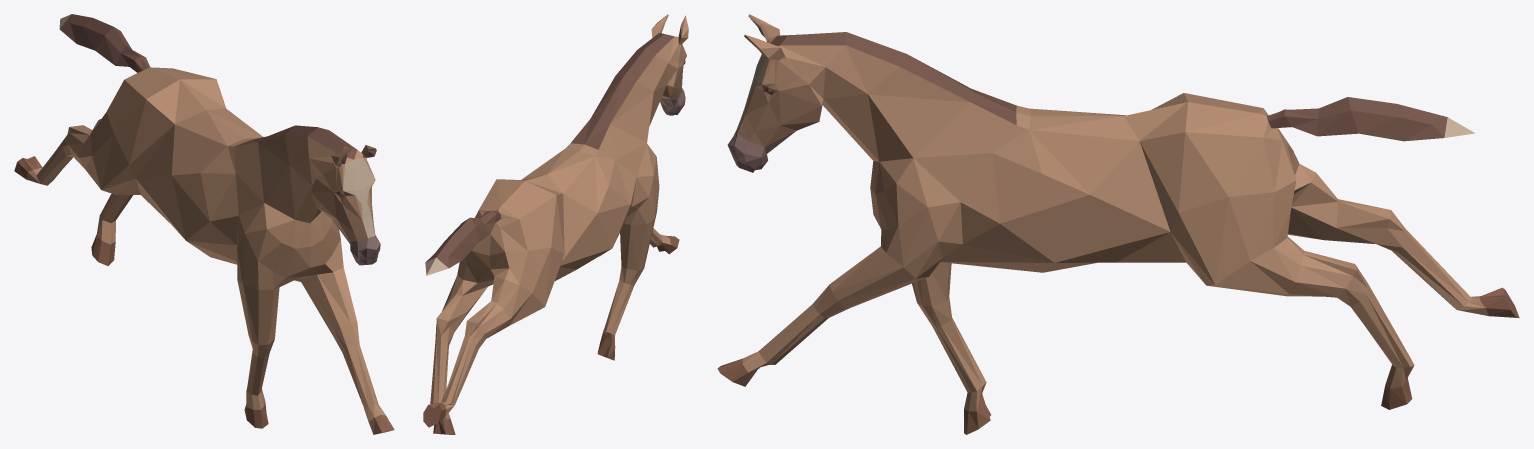
Rendered from Horse.glb.
The picture shows the model from 3 angles, left to right: view 1: azimuth 30°, elevation 25°; view 2: azimuth 150°, elevation 25°; view 3: azimuth 270°, elevation 25°; orthographic projection. The views are drawn at different scales.
Visible parts, largest first — view 1: mesh_0; view 2: mesh_0; view 3: mesh_0.
Boxes of the visible parts, x1,y1,x2,y2 form: mesh_0: (14,14,394,434); mesh_0: (423,14,688,434); mesh_0: (717,14,1519,434).
Bounding box in the file's own units: 62.68 × 186 × 323.
